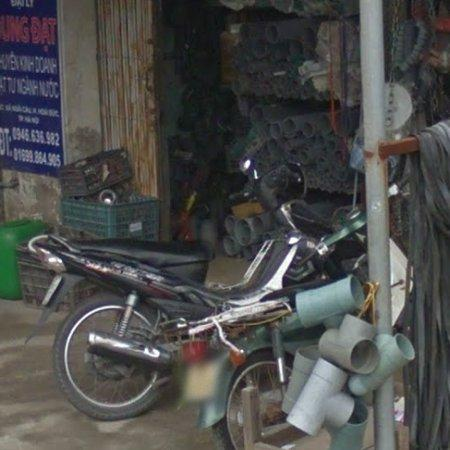motorcycles: (28, 205, 415, 450)
